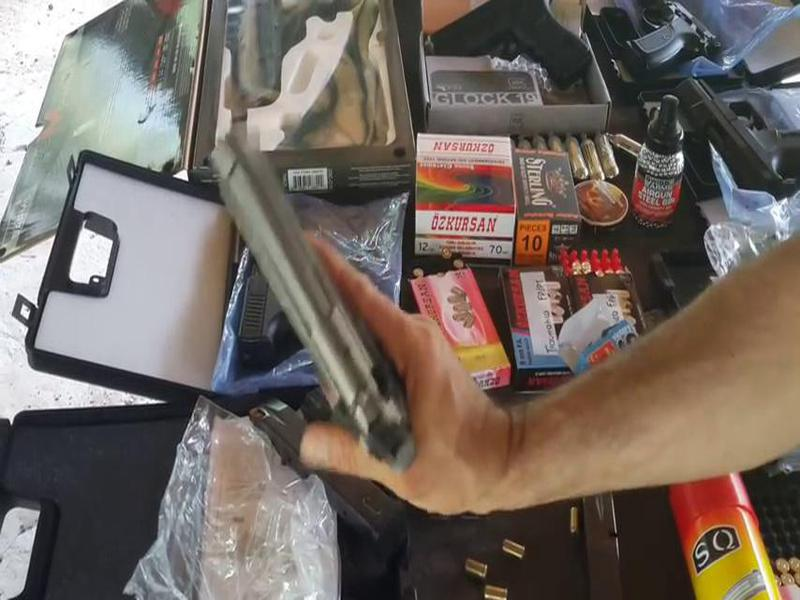Pistola: (170, 113, 454, 486)
